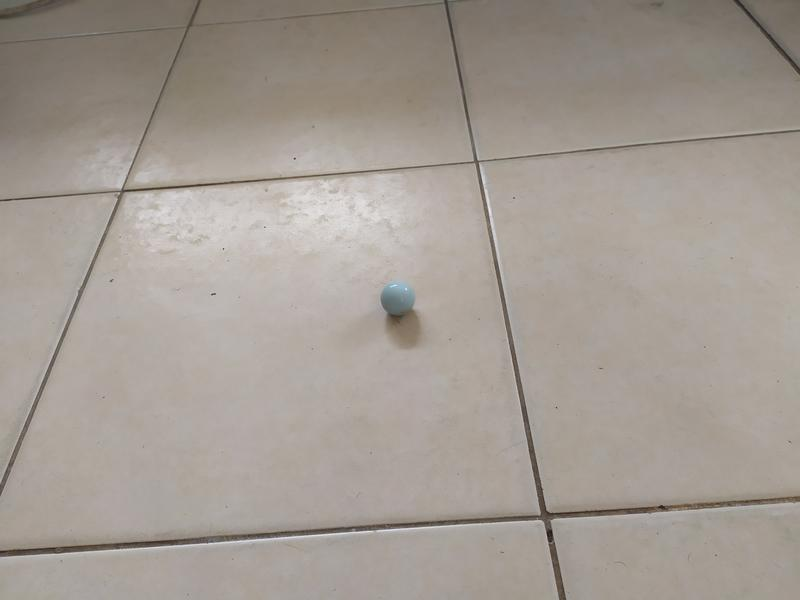Warning: (378, 279, 417, 318)
